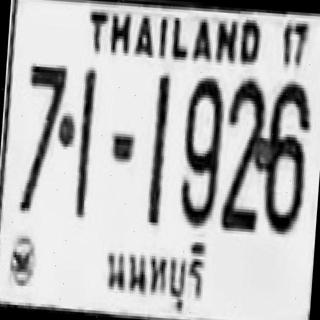N01: (146, 73, 170, 224), (73, 67, 96, 218)
N02: (220, 76, 271, 231), (220, 77, 269, 216)
N06: (259, 78, 312, 234)
N07: (17, 62, 67, 214)
N09: (177, 74, 224, 226)
P37: (103, 229, 208, 313)
